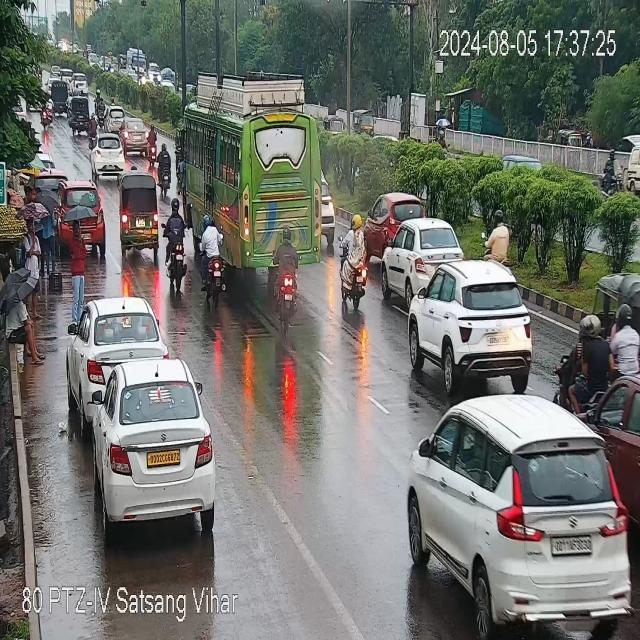2-wheelers: (570, 311, 605, 391), (340, 218, 368, 308), (198, 216, 228, 295), (167, 202, 194, 284), (609, 299, 640, 370), (272, 233, 302, 306), (485, 210, 510, 258), (601, 150, 621, 200), (157, 145, 170, 194), (41, 94, 52, 129), (96, 89, 104, 127), (89, 112, 98, 143)
auto: (119, 173, 163, 250), (72, 96, 88, 136), (51, 82, 67, 115)
bus: (174, 70, 331, 276)
car: (417, 391, 639, 619), (83, 366, 217, 530), (409, 262, 543, 377), (593, 350, 640, 556), (73, 298, 166, 394), (383, 222, 469, 291), (368, 192, 423, 253), (86, 179, 108, 256), (90, 138, 128, 182), (123, 120, 154, 156), (31, 163, 64, 192), (70, 72, 87, 95), (106, 108, 122, 132)
pedestrian: (4, 283, 44, 363), (66, 218, 88, 304), (36, 194, 56, 282)
